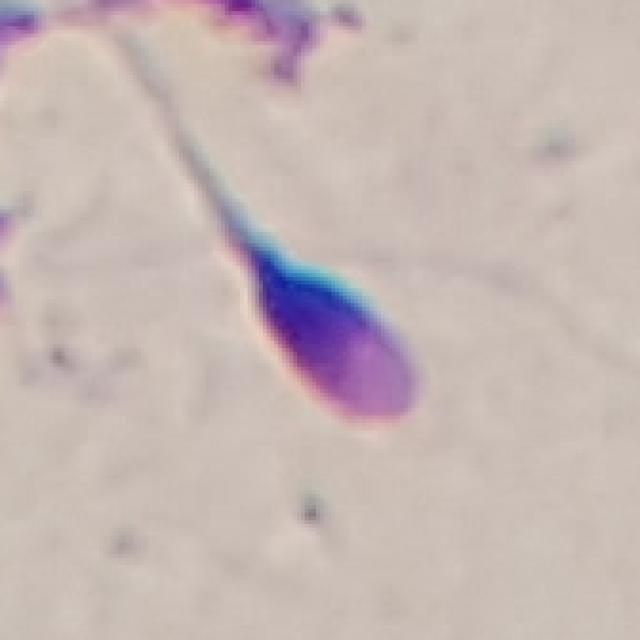normal sperm: (134, 76, 446, 448)
